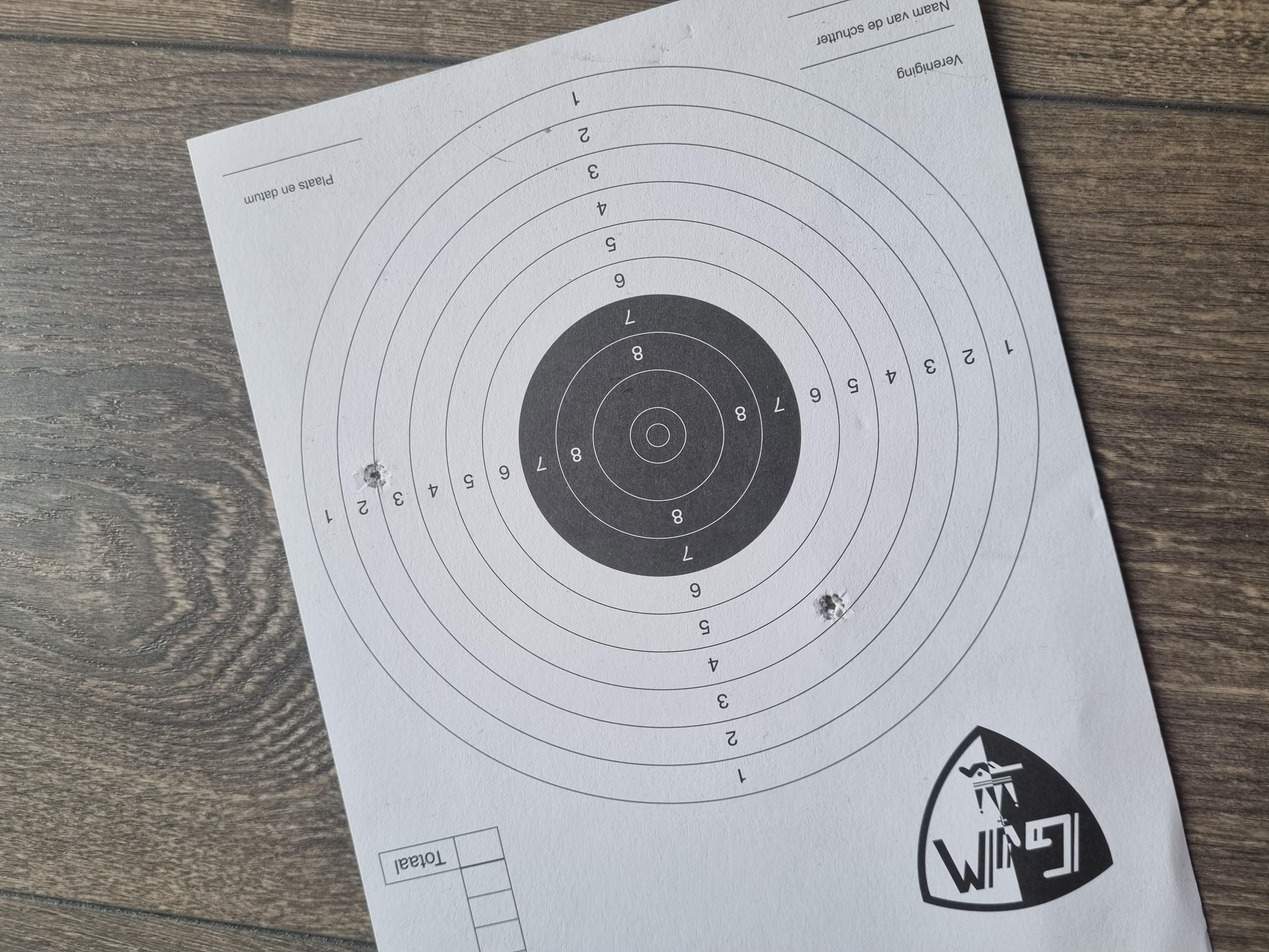hole: (438, 610, 482, 636), (612, 267, 651, 292)
